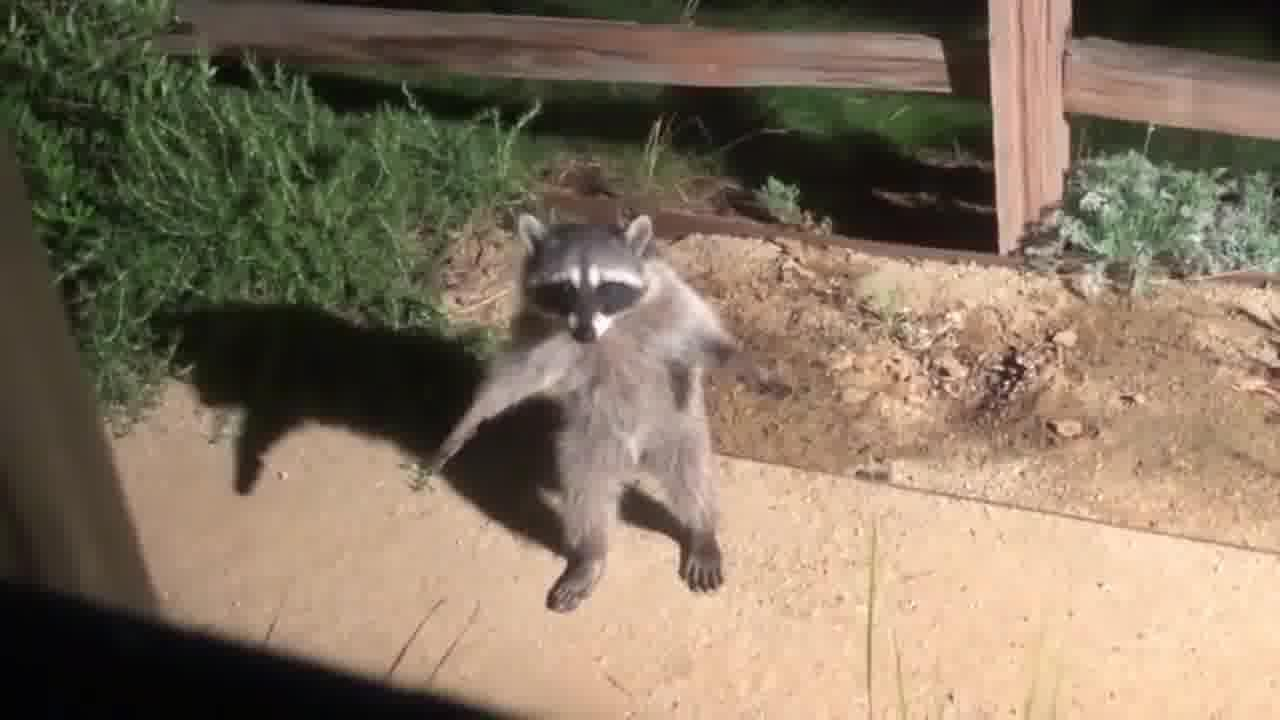raccoon: (427, 207, 797, 614)
